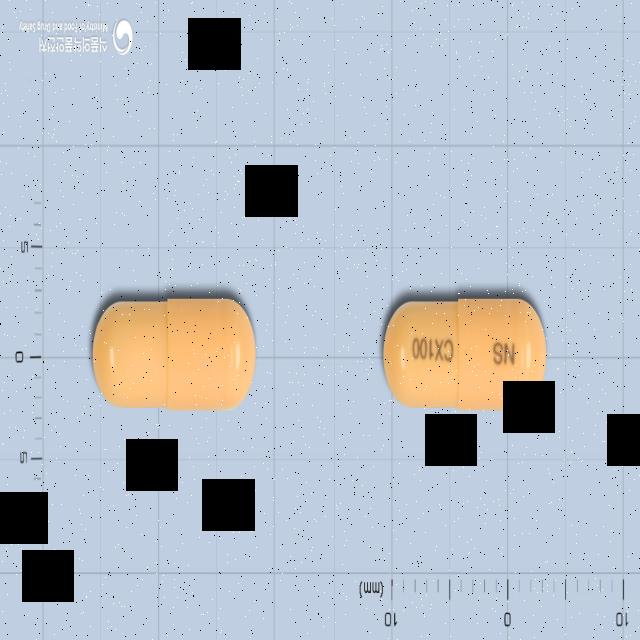Cefixime Cap- Nelson: (378, 289, 548, 417), (87, 292, 260, 417)
